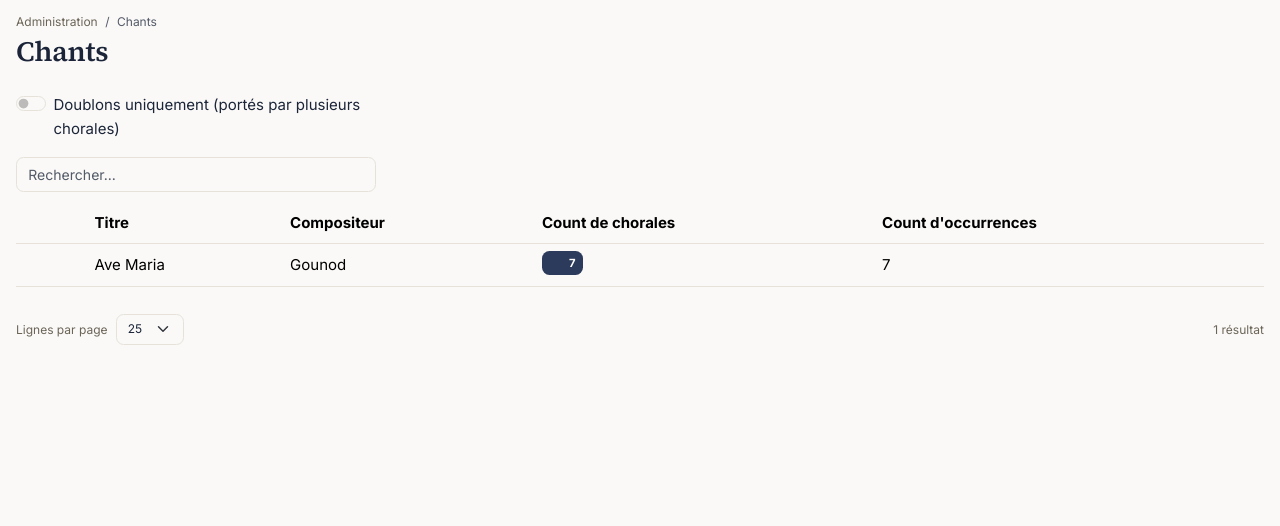
Scenario: ChantCatalogueComponent › repli puis re-dépliement de la même ligne : pas de second appel (mise en cache)
Click the button "Ave Maria Gounod 7 7": (640, 265) top-left (16, 243), bottom-right (1264, 286)
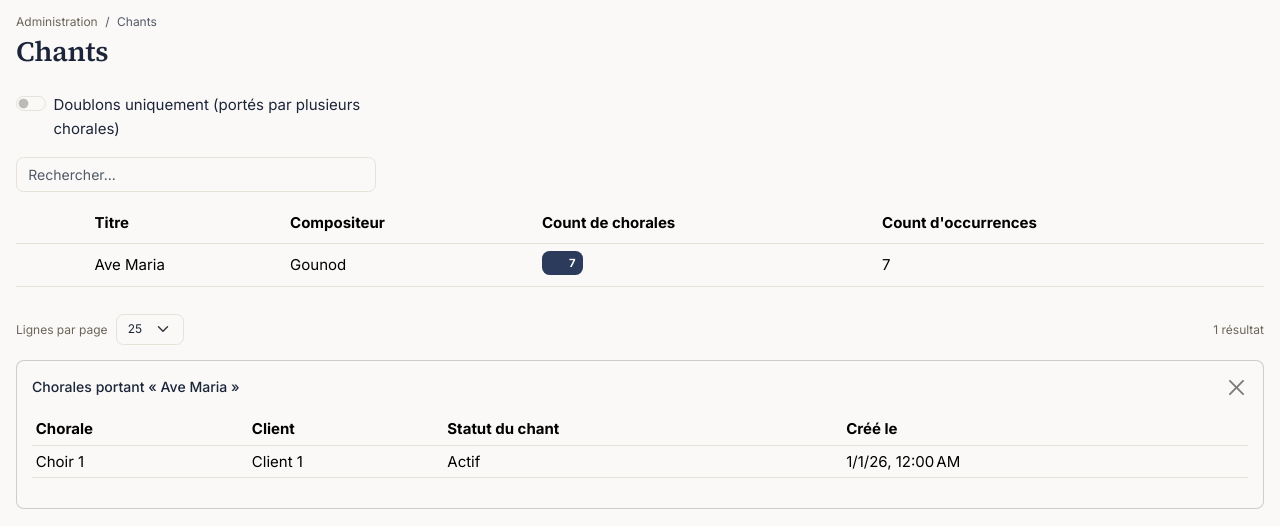
Click the button "Ave Maria Gounod 7 7": (640, 265) top-left (16, 243), bottom-right (1264, 286)
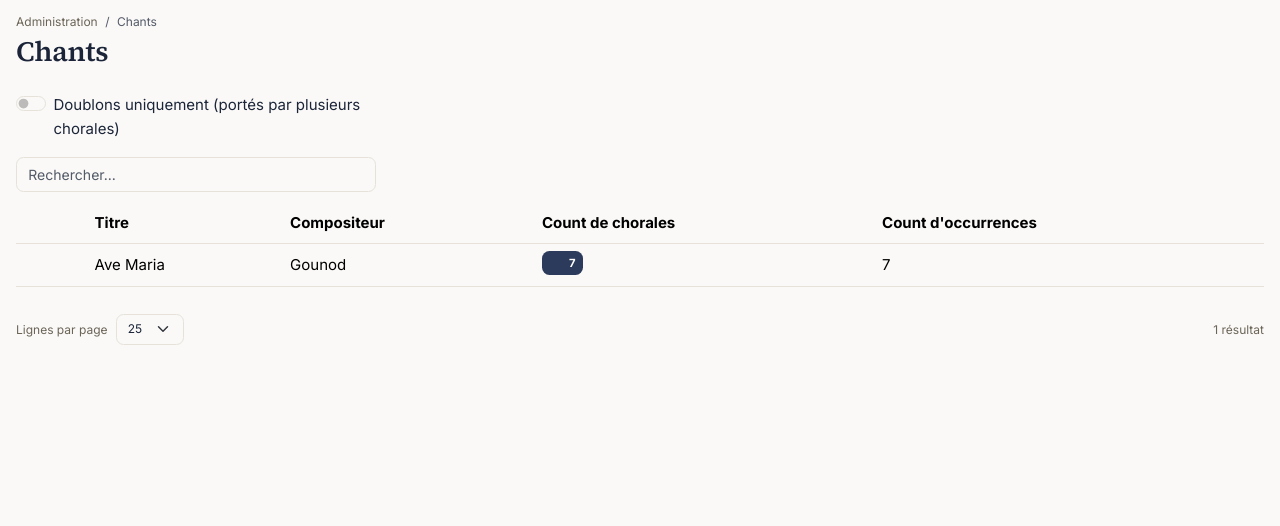
Click the button "Ave Maria Gounod 7 7": (640, 265) top-left (16, 243), bottom-right (1264, 286)
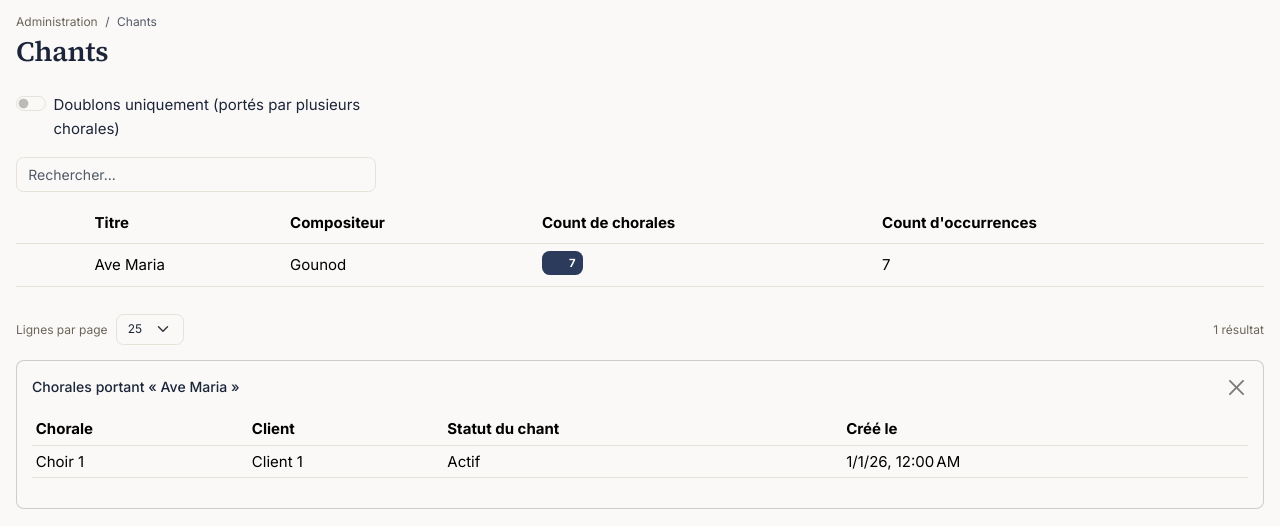
Check: the text "Choir 1" is shown, box top-left (32, 445), bottom-right (248, 478)
